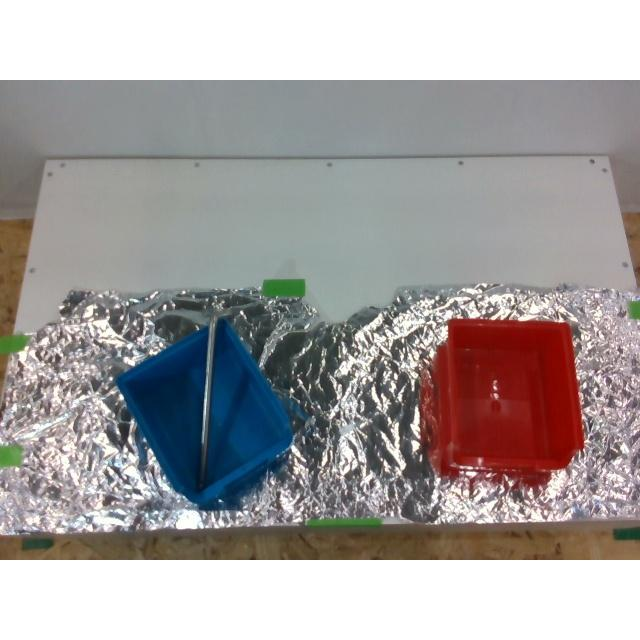AllenKey: (197, 310, 235, 486)
container_box_blue: (115, 320, 298, 508)
container_box_red: (446, 320, 582, 470)
